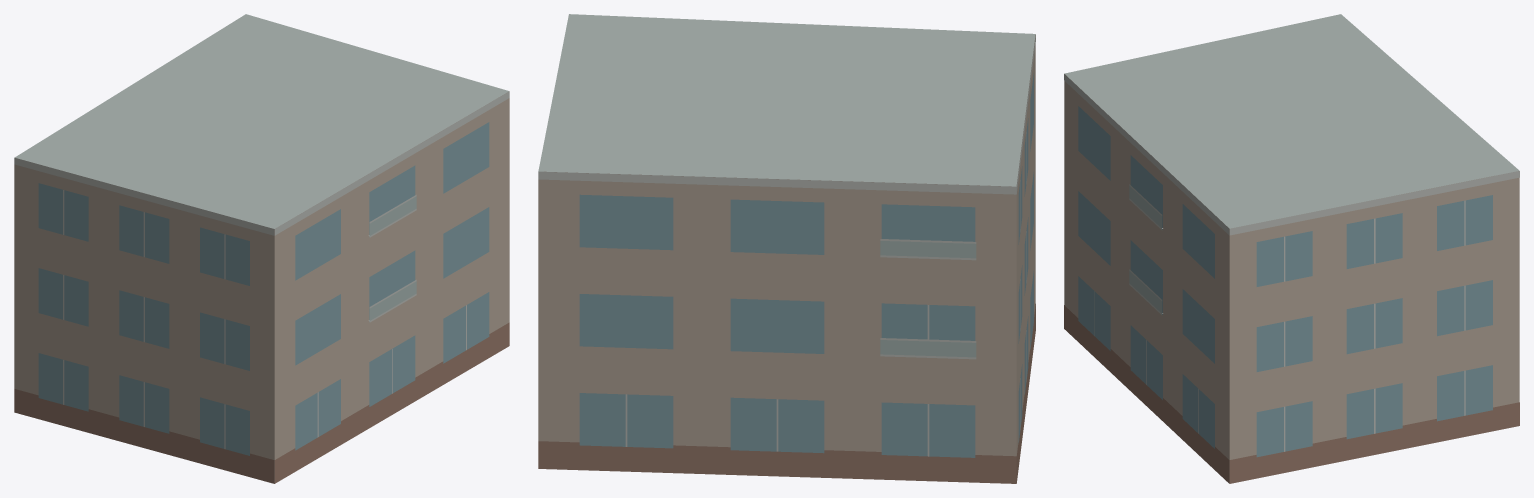
File: survey-upis-32625148.glb
The picture shows the model from 3 angles, left to right: view 1: azimuth 30°, elevation 25°; view 2: azimuth 150°, elevation 25°; view 3: azimuth 270°, elevation 25°; orthographic projection. The views are drawn at different scales.
Parts seen in each view (by area): view 1: survey-upis-32625148.tmp; view 2: survey-upis-32625148.tmp; view 3: survey-upis-32625148.tmp.
Part boxes in pixels (x1,y1,x2,y2): survey-upis-32625148.tmp: [14, 14, 509, 483]; survey-upis-32625148.tmp: [538, 14, 1035, 483]; survey-upis-32625148.tmp: [1064, 14, 1519, 483].
Bounding box in the file's own units: 16.43 × 9.1 × 14.73.
